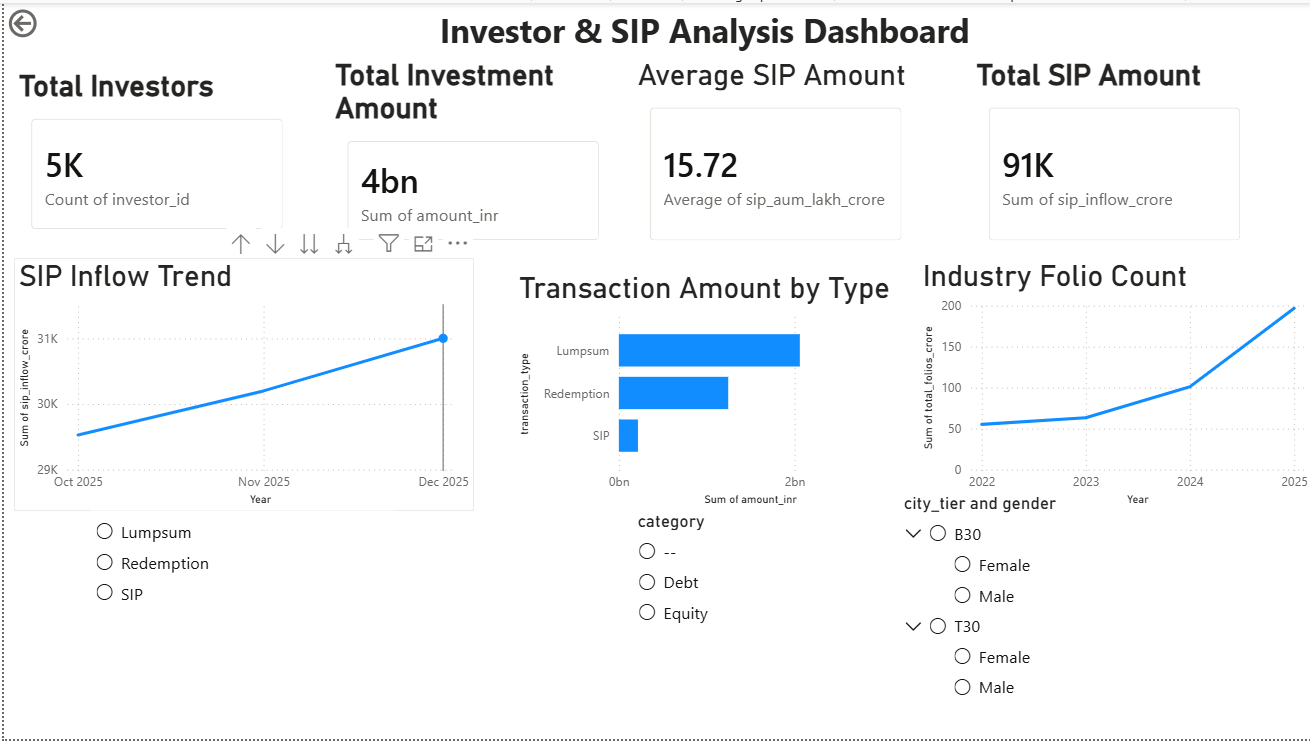

The page's visual inventory and layout, read from the dashboard file:
{"tool":"powerbi","page":{"name":"Inventory & SIP Analysis","canvas":[1280,720],"ordinal":2},"visuals":[{"type":"cardVisual","title":"Total Investors","fields":{"Data":["Count(08_investor_transactions_cleaned.investor_id)"]},"box":[9.8,63.6,280,174.9],"z":0},{"type":"cardVisual","title":"Average SIP Amount","fields":{"Data":["Avg(04_monthly_sip_inflows_cleaned.sip_aum_lakh_crore)"]},"box":[615.1,52.6,280,196.9],"z":1000},{"type":"cardVisual","title":"Total SIP Amount","fields":{"Data":["Sum(04_monthly_sip_inflows_cleaned.sip_inflow_crore)"]},"box":[946.5,52.6,280,196.9],"z":2000},{"type":"cardVisual","title":"Total Investment Amount","fields":{"Data":["Sum(08_investor_transactions_cleaned.amount_inr)"]},"box":[319.2,52.6,280,196.9],"z":3000},{"type":"lineChart","title":"SIP Inflow Trend","fields":{"Category":["04_monthly_sip_inflows_cleaned.month.Variation.Date Hierarchy.Year","04_monthly_sip_inflows_cleaned.month.Variation.Date Hierarchy.Quarter","04_monthly_sip_inflows_cleaned.month.Variation.Date Hierarchy.Month","04_monthly_sip_inflows_cleaned.month.Variation.Date Hierarchy.Day"],"Y":["Sum(04_monthly_sip_inflows_cleaned.sip_inflow_crore)"]},"box":[9.8,249.5,450,247],"z":4000},{"type":"clusteredBarChart","title":"Transaction Amount by Type","fields":{"Y":["Sum(08_investor_transactions_cleaned.amount_inr)"],"Category":["08_investor_transactions_cleaned.transaction_type"]},"box":[498.9,261.7,376.6,234.8],"z":5000},{"type":"lineChart","title":"Industry Folio Count","fields":{"Category":["06_industry_folio_count_cleaned.month.Variation.Date Hierarchy.Year","06_industry_folio_count_cleaned.month.Variation.Date Hierarchy.Quarter","06_industry_folio_count_cleaned.month.Variation.Date Hierarchy.Month","06_industry_folio_count_cleaned.month.Variation.Date Hierarchy.Day"],"Y":["Sum(06_industry_folio_count_cleaned.total_folios_crore)"]},"box":[893.9,249.5,386.4,247],"z":6000},{"type":"listSlicer","fields":{"Values":["08_investor_transactions_cleaned.transaction_type"]},"box":[84.4,496.5,299.6,223.8],"z":7000},{"type":"listSlicer","fields":{"Values":["01_fund_master_cleaned.category"]},"box":[615.1,496.5,167.5,223.8],"z":8000},{"type":"actionButton","box":[0,0,100,40],"z":9000},{"type":"listSlicer","fields":{"Values":["08_investor_transactions_cleaned.city_tier","08_investor_transactions_cleaned.gender"]},"box":[875.5,479.4,182.2,240.9],"z":10000},{"type":"textbox","box":[349.7,0,671.3,52.6],"z":11000}]}

Visuals, with their boxes on the page's 1280x720 design canvas (x1, y1, x2, y2). These are canvas units, not pixel positions in the 1310x741 screenshot, which may show the page scaled, cropped or inside an application window:
"Total Investors" cardVisual: Rect(10, 64, 290, 238)
"Average SIP Amount" cardVisual: Rect(615, 53, 895, 250)
"Total SIP Amount" cardVisual: Rect(946, 53, 1226, 250)
"Total Investment Amount" cardVisual: Rect(319, 53, 599, 250)
"SIP Inflow Trend" lineChart: Rect(10, 250, 460, 496)
"Transaction Amount by Type" clusteredBarChart: Rect(499, 262, 876, 496)
"Industry Folio Count" lineChart: Rect(894, 250, 1280, 496)
listSlicer - 08_investor_transactions_cleaned.transaction_type: Rect(84, 496, 384, 720)
listSlicer - 01_fund_master_cleaned.category: Rect(615, 496, 783, 720)
actionButton: Rect(0, 0, 100, 40)
listSlicer - 08_investor_transactions_cleaned.city_tier x 08_investor_transactions_cleaned.gender: Rect(876, 479, 1058, 720)
textbox: Rect(350, 0, 1021, 53)
